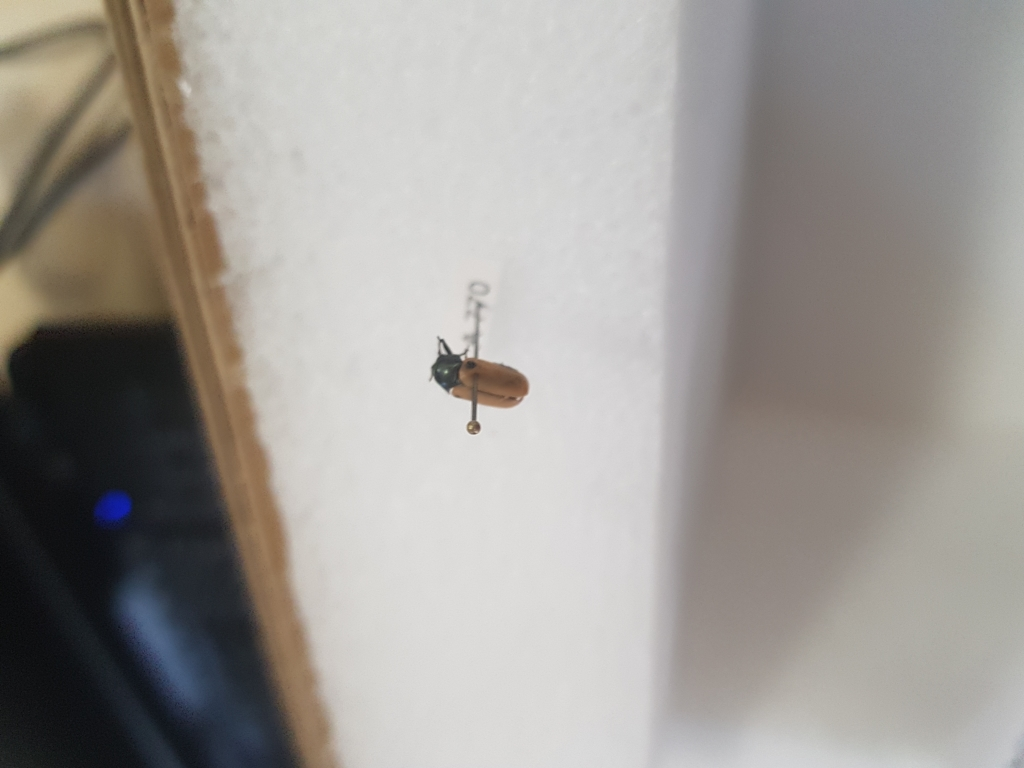Labidostomis_propinqua: (428, 329, 533, 416)
